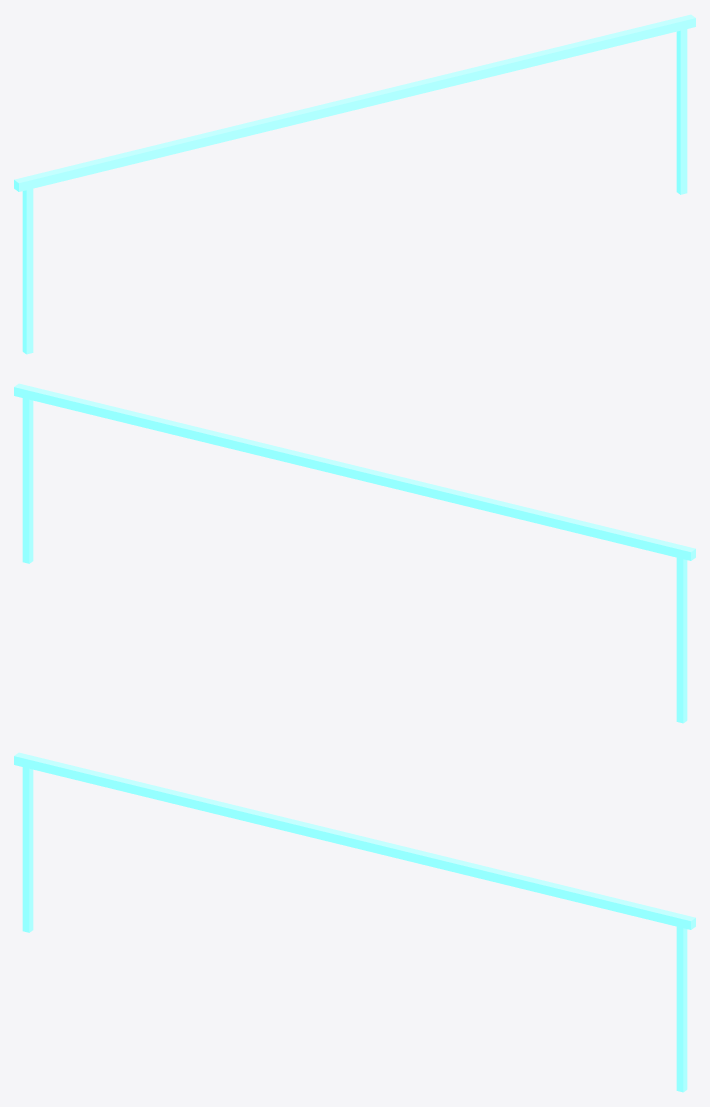
Rendered from track_checkpoint_gantry_v1.glb.
The picture shows the model from 3 angles, top to bottom: view 1: azimuth 30°, elevation 25°; view 2: azimuth 150°, elevation 25°; view 3: azimuth 330°, elevation 25°; orthographic projection.
Parts seen in each view (by area): view 1: CP_BEAM, CP_POLE_L, CP_POLE_R; view 2: CP_BEAM, CP_POLE_L, CP_POLE_R; view 3: CP_BEAM, CP_POLE_R, CP_POLE_L.
Part boxes in pixels (x1,y1,x2,y2): CP_BEAM: (14, 14, 695, 191); CP_POLE_L: (22, 188, 33, 354); CP_POLE_R: (676, 29, 687, 194); CP_BEAM: (14, 383, 695, 560); CP_POLE_L: (676, 557, 687, 723); CP_POLE_R: (22, 398, 33, 563); CP_BEAM: (14, 752, 695, 929); CP_POLE_R: (676, 926, 687, 1092); CP_POLE_L: (22, 767, 33, 932).
Size of the model in its own units: 17.6 by 4.31 by 0.22.
